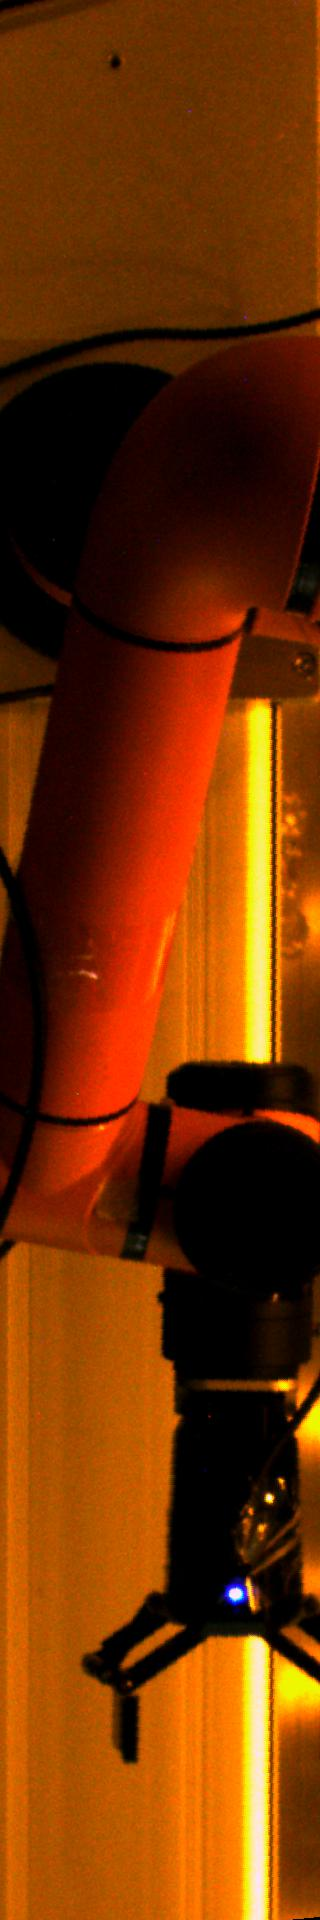keyPoint_1: (221, 1576, 251, 1607)
keyPoint_2: (99, 47, 129, 77)
